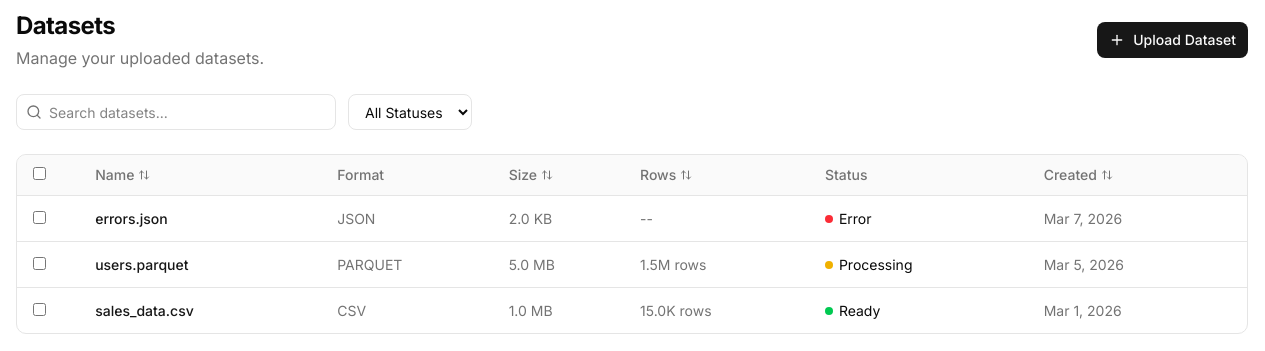
Test: DatasetsPage › bulk actions › shows bulk delete button when datasets are selected
// First checkbox is "select all", second is first row
Click the checkbox named "Select errors.json" at point(40, 217), box [33,210,46,224]
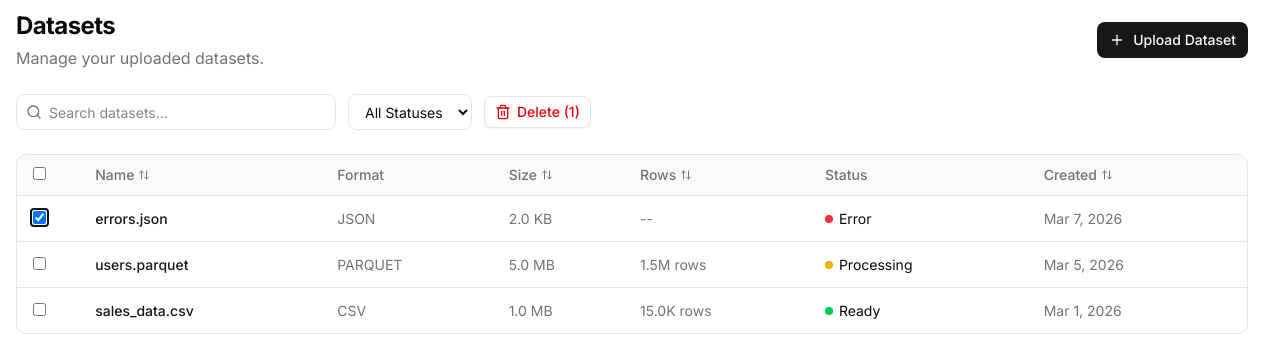
Check: the button with test id "bulk-delete-button" is shown, box [484,96,591,128]
